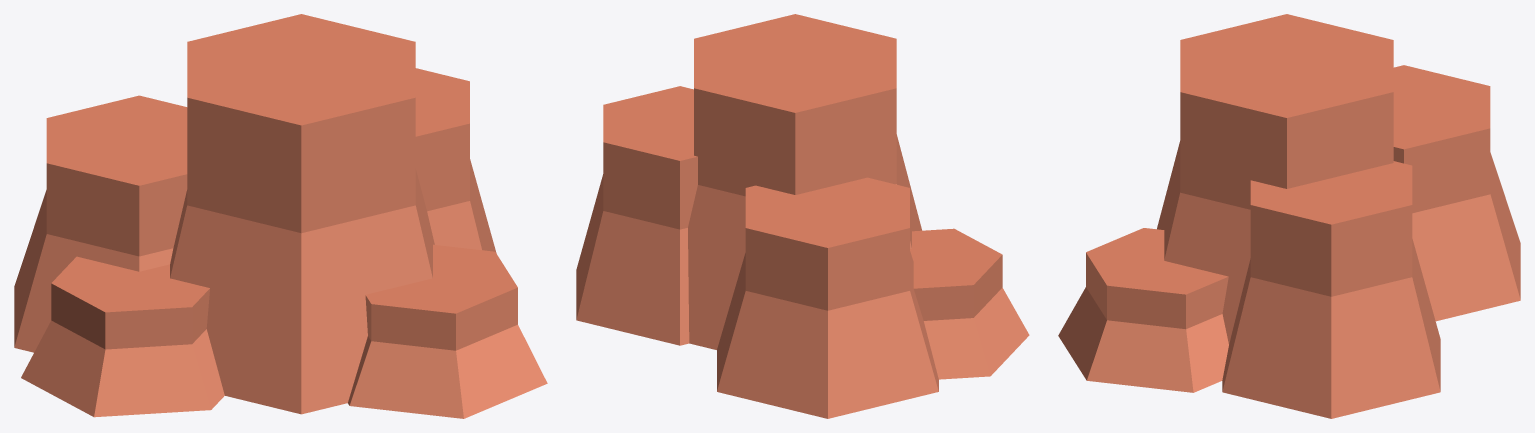
The model's file is rock_largeA.glb.
3 renders of one model, left to right at view 1: azimuth 30°, elevation 25°; view 2: azimuth 150°, elevation 25°; view 3: azimuth 270°, elevation 25°, orthographic. The views are drawn at different scales.
Visible parts, largest first — view 1: rock_largeA; view 2: rock_largeA; view 3: rock_largeA.
Part boxes in pixels (x1,y1,x2,y2): rock_largeA: (14,14,547,418); rock_largeA: (576,14,1029,418); rock_largeA: (1058,14,1520,418).
Size of the model in its own units: 0.9193 by 0.5 by 0.8339.
